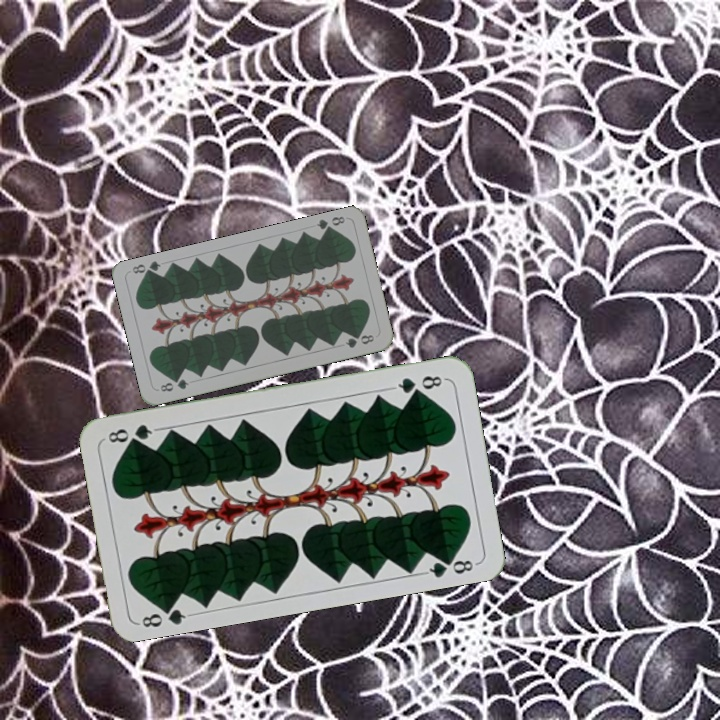G8: (135, 599, 194, 630), (389, 371, 448, 397), (312, 212, 347, 236), (156, 375, 191, 394)
